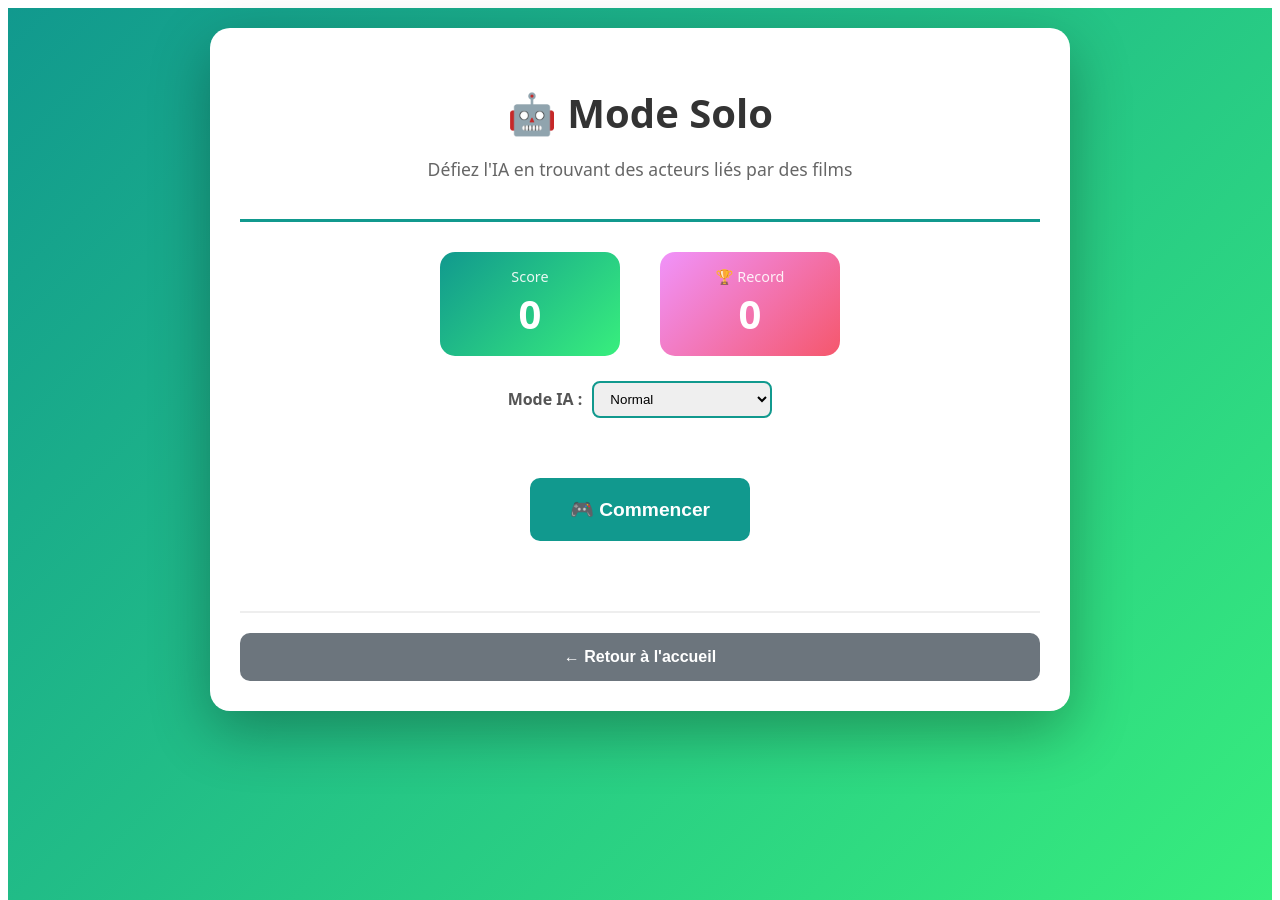
Tests d'intégration - Scénarios complets › Scénario 1 : Lancement et démarrage d'une partie solo
Expected: the heading "🤖 Mode Solo" is shown, 507,85 -> 773,140
Expected: the text "Score" is shown, 511,267 -> 549,286
What coordinates should you click on to do the following:
click the button "🎮 Commencer"
I would click on:
 (640, 510)
Its box is 530,478 -> 750,541.
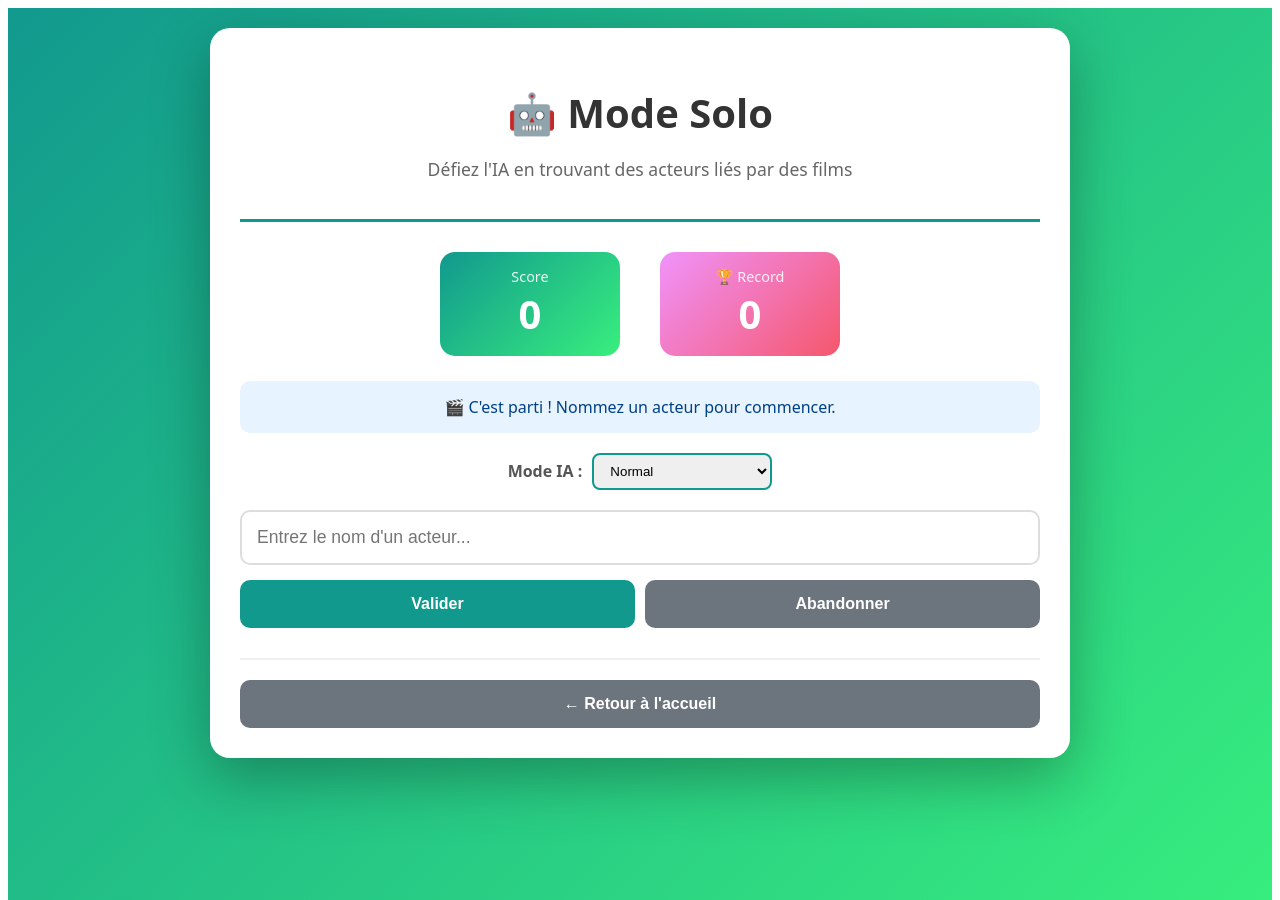
Result: the text "🎬 C'est parti ! Nommez un acteur pour commencer." is shown at 240,381 -> 1040,433
Result: the field with placeholder "Entrez le nom d'un acteur..." is shown at 240,510 -> 1040,565
Result: the button "Valider" is shown at 240,580 -> 635,628
